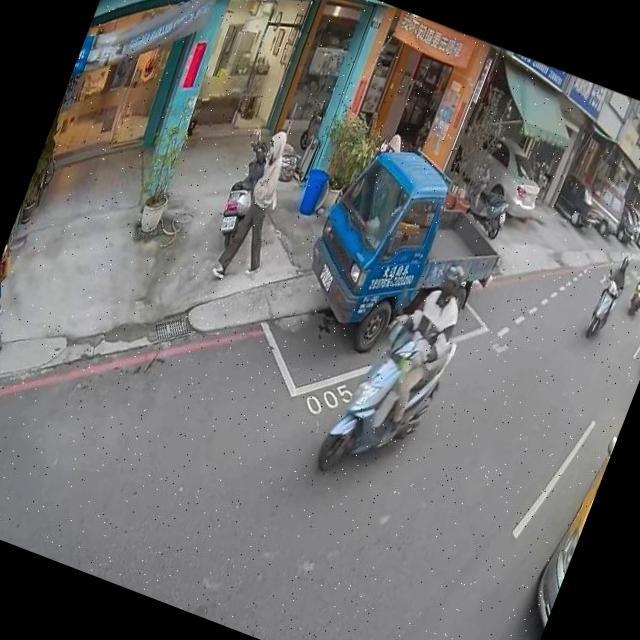person: (356, 240, 488, 456), (206, 116, 312, 289), (0, 230, 41, 370), (599, 250, 637, 300), (380, 129, 408, 161), (376, 132, 394, 160)
